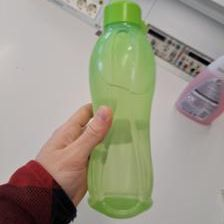bottle: (82, 2, 159, 218)
